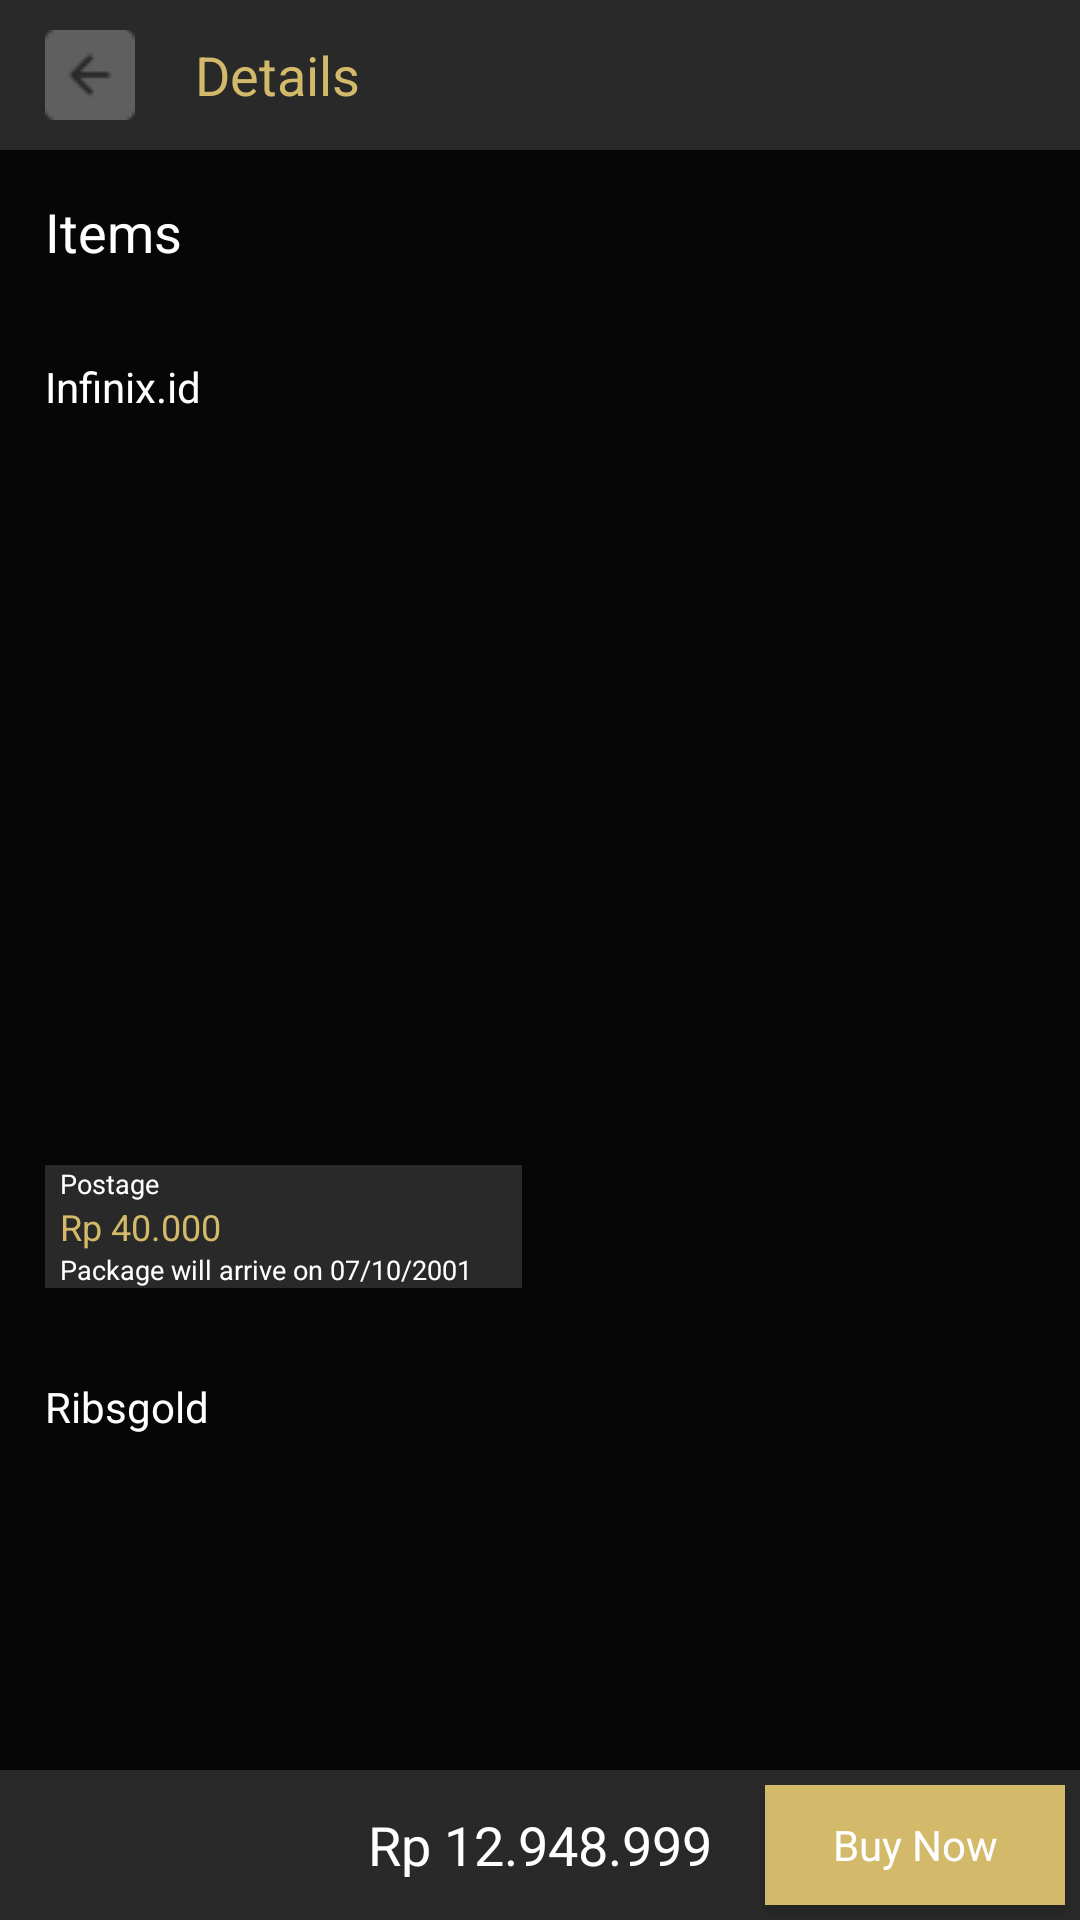

Where icons sit on this 1080x1920 app screen, as bbox=[x1, y1, x2, y2]:
arrow: bbox=[45, 30, 135, 120]
